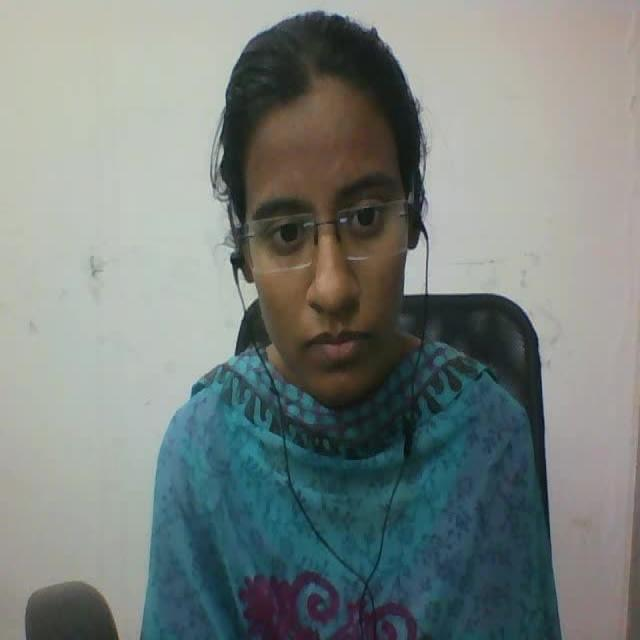Engaged: (196, 0, 442, 424)
